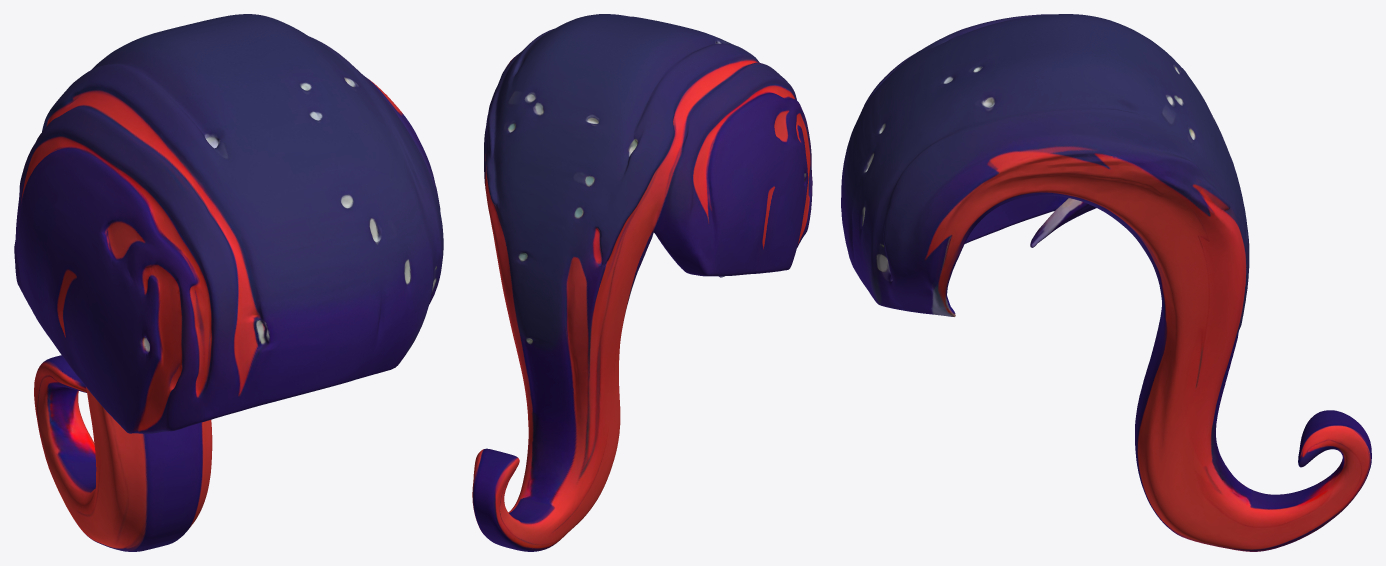
The model's file is E001MiyukiHair.glb.
The picture shows the model from 3 angles, left to right: view 1: azimuth 30°, elevation 25°; view 2: azimuth 150°, elevation 25°; view 3: azimuth 270°, elevation 25°; orthographic projection. The views are drawn at different scales.
Visible parts, largest first — view 1: tripo_node_f1f0c6cc-a7c6-4992-9a64-dbfb0db8bffa; view 2: tripo_node_f1f0c6cc-a7c6-4992-9a64-dbfb0db8bffa; view 3: tripo_node_f1f0c6cc-a7c6-4992-9a64-dbfb0db8bffa.
Boxes of the visible parts, left/top/right/bottom form: tripo_node_f1f0c6cc-a7c6-4992-9a64-dbfb0db8bffa: left=14, top=14, right=443, bottom=551; tripo_node_f1f0c6cc-a7c6-4992-9a64-dbfb0db8bffa: left=472, top=14, right=812, bottom=551; tripo_node_f1f0c6cc-a7c6-4992-9a64-dbfb0db8bffa: left=841, top=14, right=1371, bottom=551.
Size of the model in its own units: 0.5619 by 0.9501 by 0.8922.
1 material, 1 textured.
